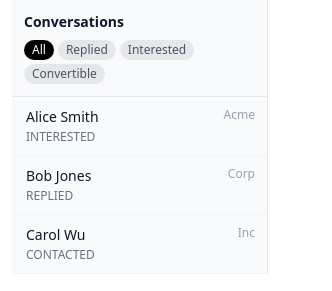
Test case: filters leads by status when chip clicked
This screenshot has width=332, height=291.
Click the button "Interested" at (157, 50), box [120,40,194,60]
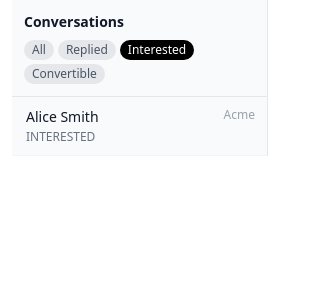
expect the text "Alice Smith" is shown: met, box [26,107,98,127]
expect the button "Bob Jones" is gone: met
expect the button "Carol Wu" is gone: met
